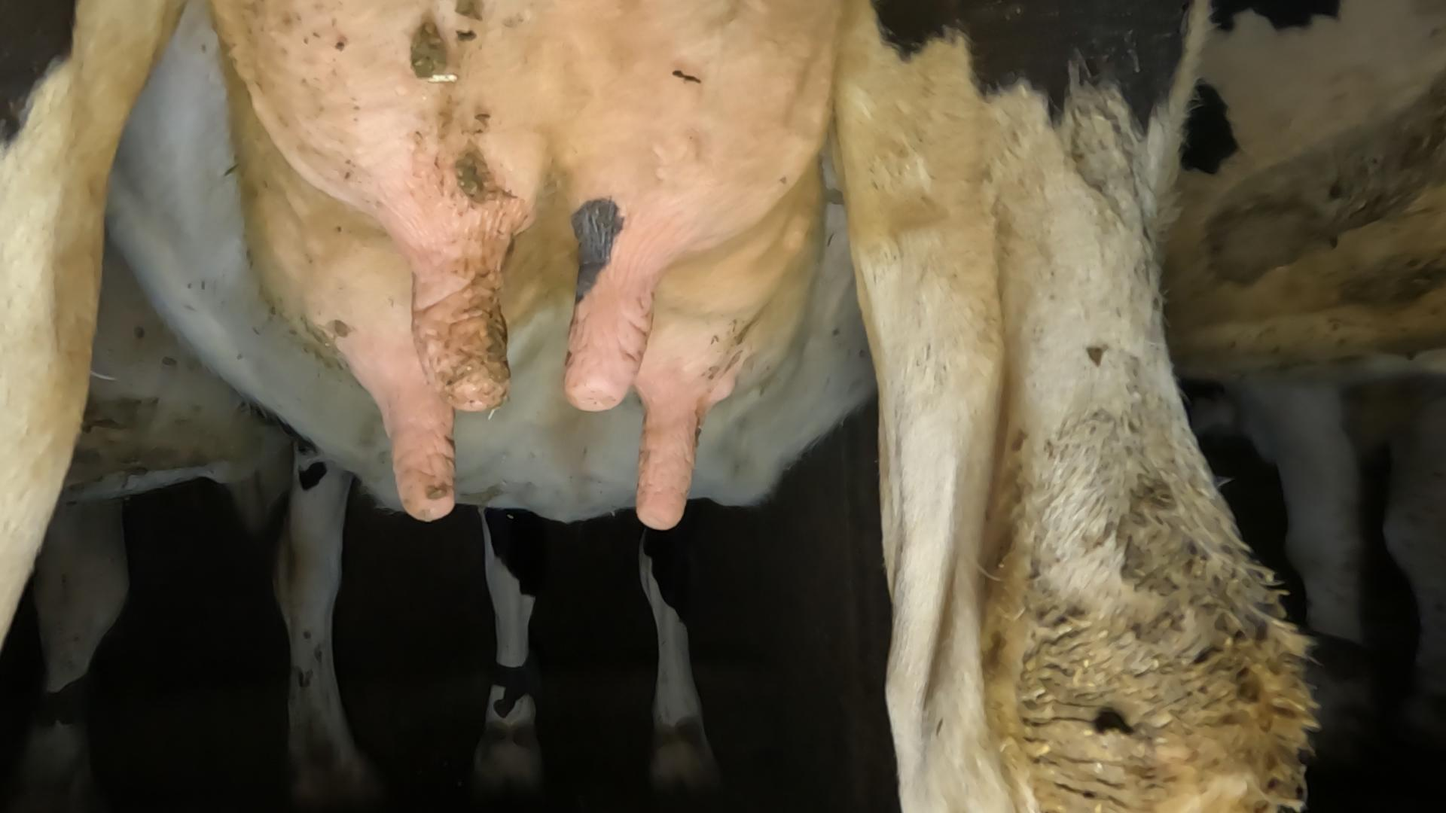Zitze: (412, 217, 519, 420), (563, 215, 654, 423), (368, 364, 478, 531), (613, 380, 728, 537)
